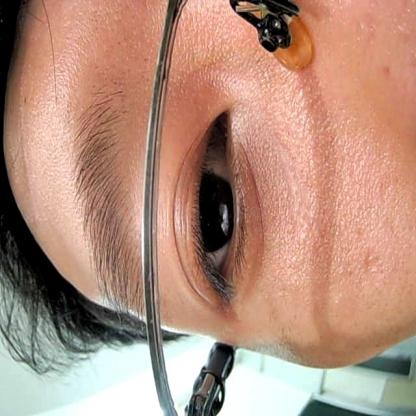Straight: (177, 91, 255, 317)
